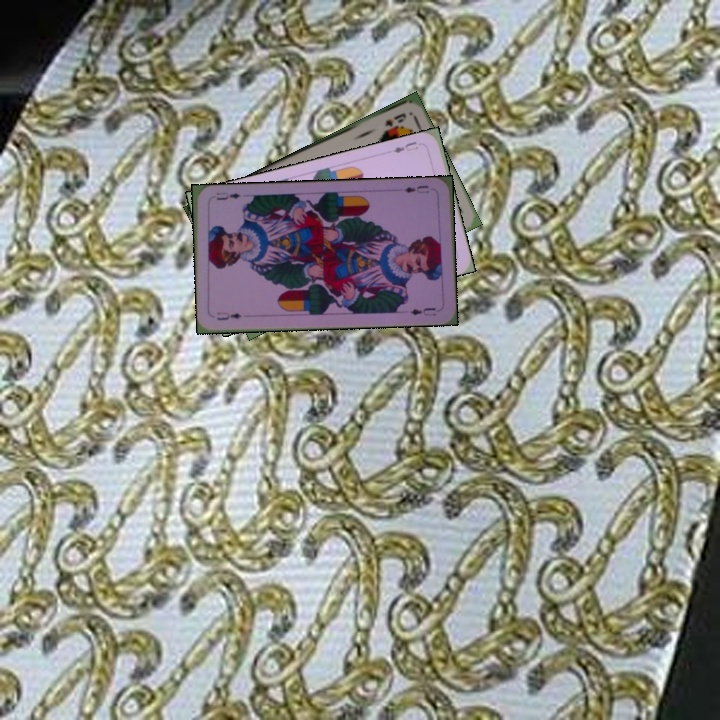EU: (389, 137, 421, 156), (400, 181, 431, 196), (213, 308, 244, 323)
SO: (381, 109, 409, 129)
